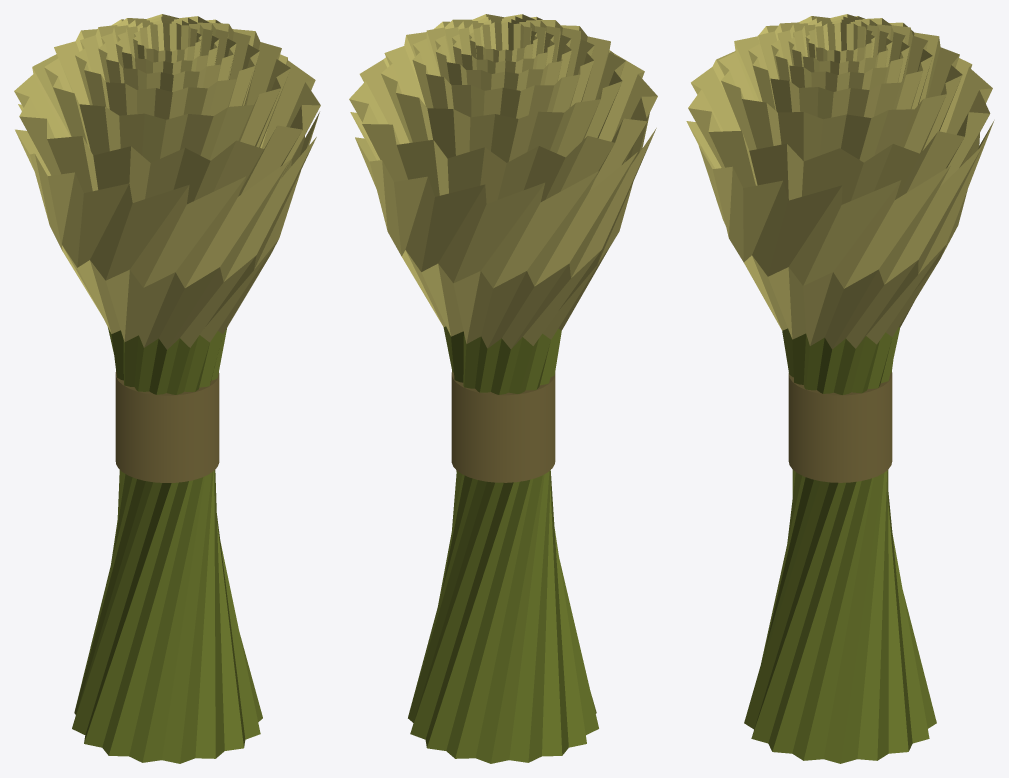
File: barley.fbx
The picture shows the model from 3 angles, left to right: view 1: azimuth 30°, elevation 25°; view 2: azimuth 150°, elevation 25°; view 3: azimuth 270°, elevation 25°; orthographic projection.
Parts seen in each view (by area): view 1: barley; view 2: barley; view 3: barley.
Boxes of the visible parts, x1,y1,x2,y2 form: barley: [14, 14, 320, 763]; barley: [349, 14, 657, 763]; barley: [686, 14, 994, 763].
Bounding box in the file's own units: 320 × 785 × 320.
